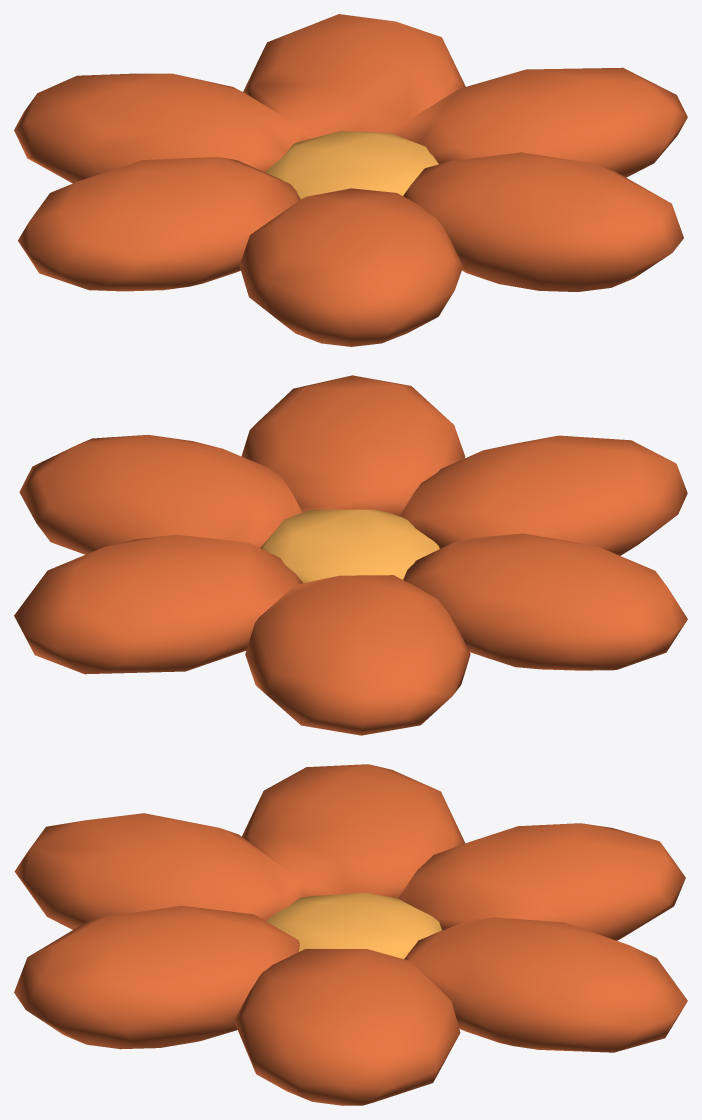
The model's file is flowers3-compressed.glb.
3 views of the same model, one above another, from view 1: azimuth 30°, elevation 25°; view 2: azimuth 150°, elevation 25°; view 3: azimuth 270°, elevation 25° (orthographic).
Visible parts, largest first — view 1: flowers3; view 2: flowers3; view 3: flowers3.
Boxes of the visible parts, left/top/right/bottom form: flowers3: left=14, top=14, right=687, bottom=346; flowers3: left=14, top=375, right=687, bottom=735; flowers3: left=14, top=764, right=687, bottom=1105.
Size of the model in its own units: 1.32 by 0.1599 by 1.19.
